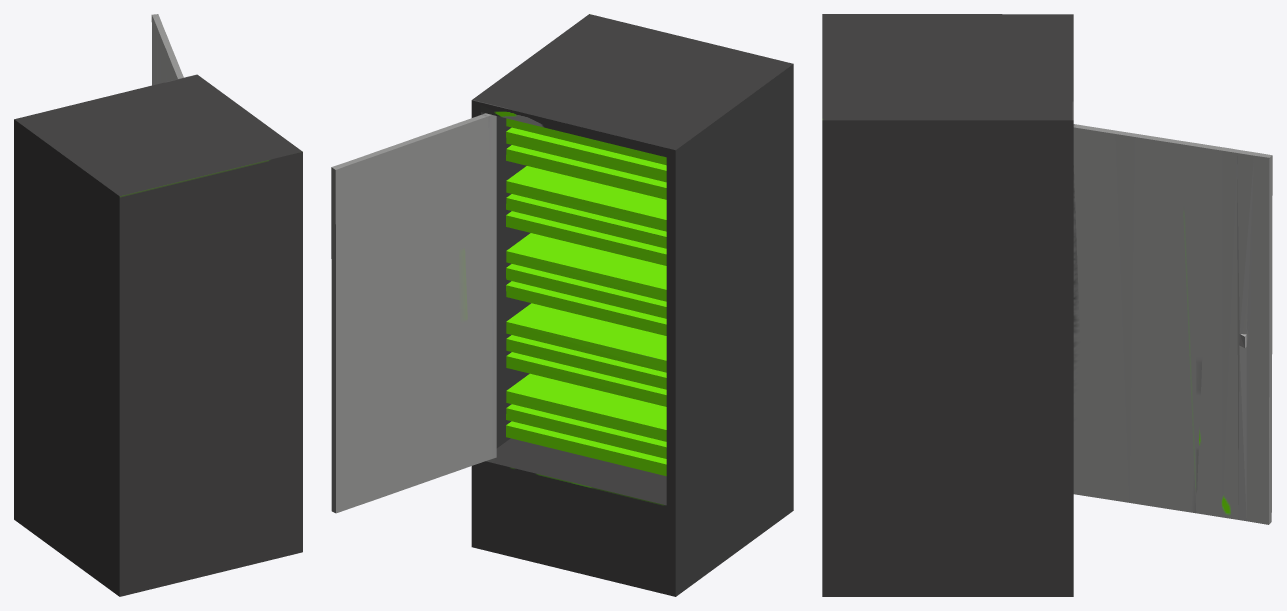
File: schrankOffen.glb
3 renders of one model, left to right at view 1: azimuth 30°, elevation 25°; view 2: azimuth 150°, elevation 25°; view 3: azimuth 270°, elevation 25°, orthographic. The views are drawn at different scales.
Parts seen in each view (by area): view 1: 300604_23_06_15_12_54_18_1; view 2: 300604_23_06_15_12_54_18_1; view 3: 300604_23_06_15_12_54_18_1.
Boxes of the visible parts, box(x1,y1,x2,y2) form: 300604_23_06_15_12_54_18_1: box(14, 14, 302, 596); 300604_23_06_15_12_54_18_1: box(331, 14, 793, 596); 300604_23_06_15_12_54_18_1: box(822, 14, 1272, 596).
Size of the model in its own units: 1.72 by 2.91 by 2.49.
Materials: 1 (1 with a texture image).
